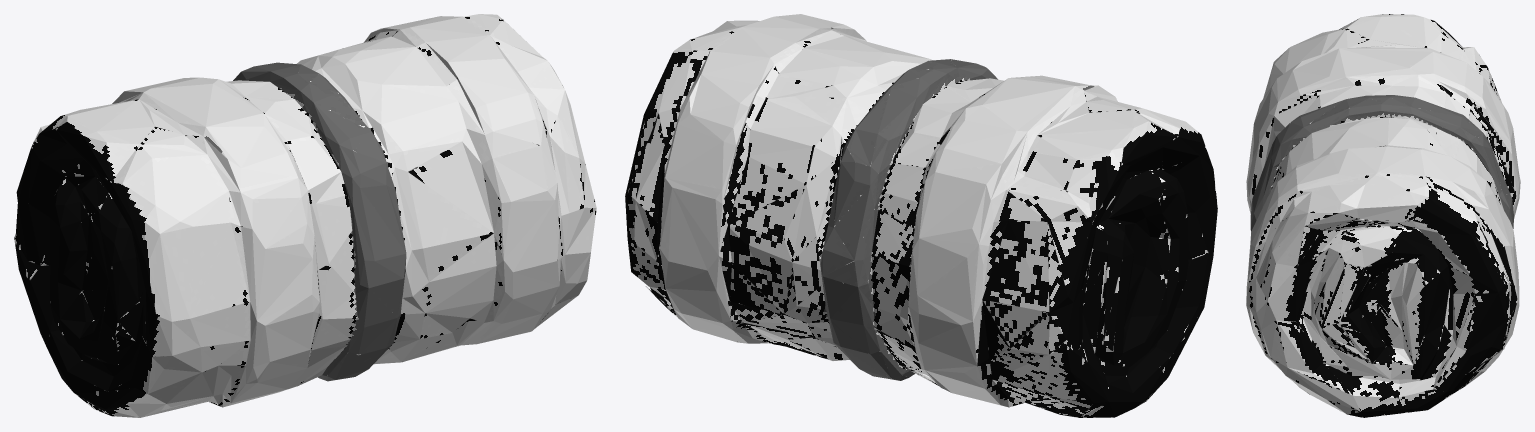
3 renders of one model, left to right at view 1: azimuth 30°, elevation 25°; view 2: azimuth 150°, elevation 25°; view 3: azimuth 270°, elevation 25°, orthographic. The views are drawn at different scales.
Visible parts, largest first — view 1: OBJ121; view 2: OBJ121; view 3: OBJ121.
Part boxes in pixels (bbox=[...]): OBJ121: bbox=[14, 14, 596, 417]; OBJ121: bbox=[625, 14, 1217, 417]; OBJ121: bbox=[1246, 14, 1520, 417].
Size of the model in its own units: 0.3317 by 0.1929 by 0.2048.
1 material, 1 textured.
